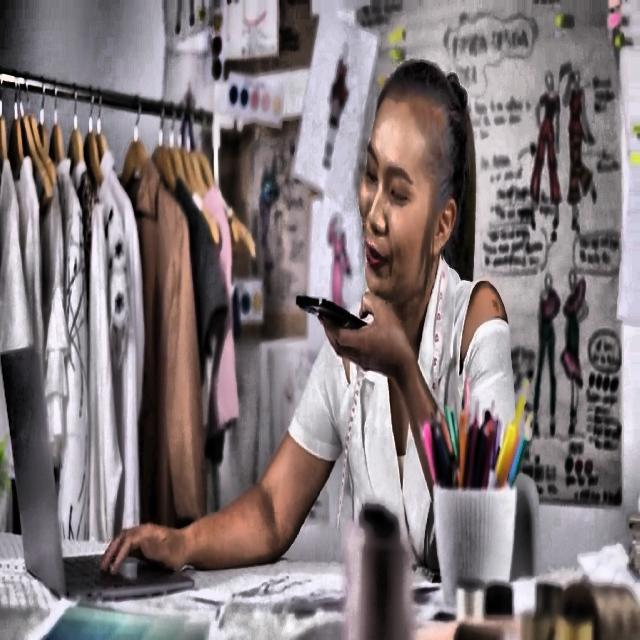Phone: (294, 288, 370, 340)
